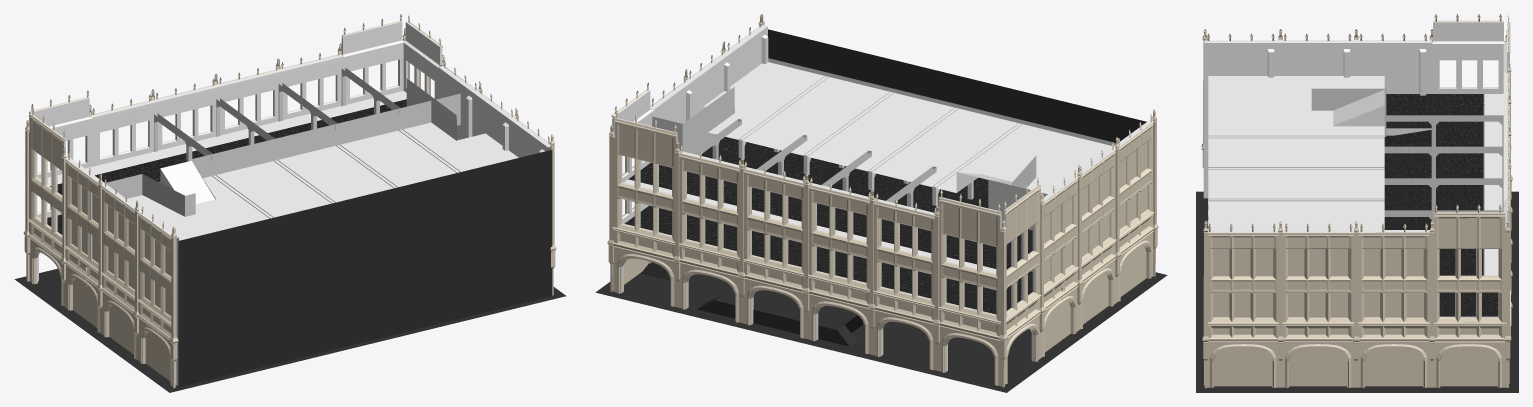
File: sports_castle_with_colliders_updated.glb
3 views of the same model, side by side, from view 1: azimuth 30°, elevation 25°; view 2: azimuth 150°, elevation 25°; view 3: azimuth 270°, elevation 25° (orthographic). The views are drawn at different scales.
Parts seen in each view (by area): view 1: Plane.023, Sports Castle Exterior, Curve_Curve.002, Sports Castle Front Inner, Plane.011, Curve.001_Curve.003, Plane, Sports Castle West Inner, Plane.005, Plane.001, Cube.006, Plane.017 (+7 smaller); view 2: Sports Castle Exterior, Curve_Curve.002, Plane, Plane.023, Curve.001_Curve.003, Curve.001_Curve.001, Sports Castle West Inner, Cube.031, Curve_Curve.001, Sports Castle Front Inner, Cube.003, Plane.022 (+9 smaller); view 3: Sports Castle Exterior, Curve_Curve.002, Curve.001_Curve.003, Sports Castle West Inner.001, Plane, Plane.016, Cube.006, Curve.001_Curve.001, Curve.002_Curve.008, Curve.002_Curve.002, Curve.002_Curve.004, Curve.003_Curve.006 (+7 smaller).
Boxes of the visible parts, box(x1,y1,x2,y2) form: Plane.023: box(178, 150, 552, 387); Sports Castle Exterior: box(23, 14, 556, 388); Curve_Curve.002: box(127, 122, 518, 240); Sports Castle Front Inner: box(91, 54, 343, 166); Plane.011: box(191, 93, 460, 177); Curve.001_Curve.003: box(40, 91, 406, 194); Plane: box(14, 268, 566, 392); Sports Castle West Inner: box(438, 65, 550, 157); Plane.005: box(341, 21, 403, 104); Plane.001: box(29, 97, 93, 281); Cube.006: box(90, 174, 195, 274); Plane.017: box(403, 21, 442, 99); Sports Castle Exterior: box(607, 14, 1158, 387); Curve_Curve.002: box(704, 62, 1112, 193); Plane: box(595, 272, 1167, 392); Plane.023: box(768, 29, 1146, 142); Curve.001_Curve.003: box(624, 150, 1032, 273); Curve.001_Curve.001: box(624, 206, 1061, 323); Sports Castle West Inner: box(650, 25, 768, 123); Cube.031: box(697, 288, 862, 346); Curve_Curve.001: box(715, 134, 988, 207); Sports Castle Front Inner: box(679, 151, 934, 355); Cube.003: box(652, 87, 734, 153); Plane.022: box(768, 58, 1115, 145); Sports Castle Exterior: box(1201, 14, 1512, 388); Curve_Curve.002: box(1208, 76, 1384, 229); Curve.001_Curve.003: box(1384, 94, 1503, 275); Sports Castle West Inner.001: box(1203, 40, 1431, 198); Plane: box(1196, 191, 1518, 392); Plane.016: box(1431, 21, 1504, 93); Cube.006: box(1311, 88, 1386, 136); Curve.001_Curve.001: box(1386, 135, 1498, 316); Curve.002_Curve.008: box(1384, 146, 1503, 178); Curve.002_Curve.002: box(1384, 178, 1503, 210); Curve.002_Curve.004: box(1384, 115, 1503, 146); Curve.003_Curve.006: box(1208, 135, 1384, 141).
Size of what is drawn, in the model's own units: 45.5 by 19.36 by 30.85.
Materials: 16 (2 with a texture image).
